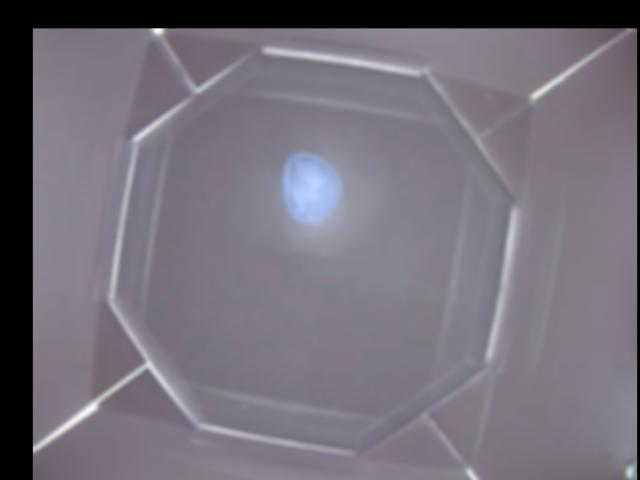Pebble: (284, 150, 343, 222)
